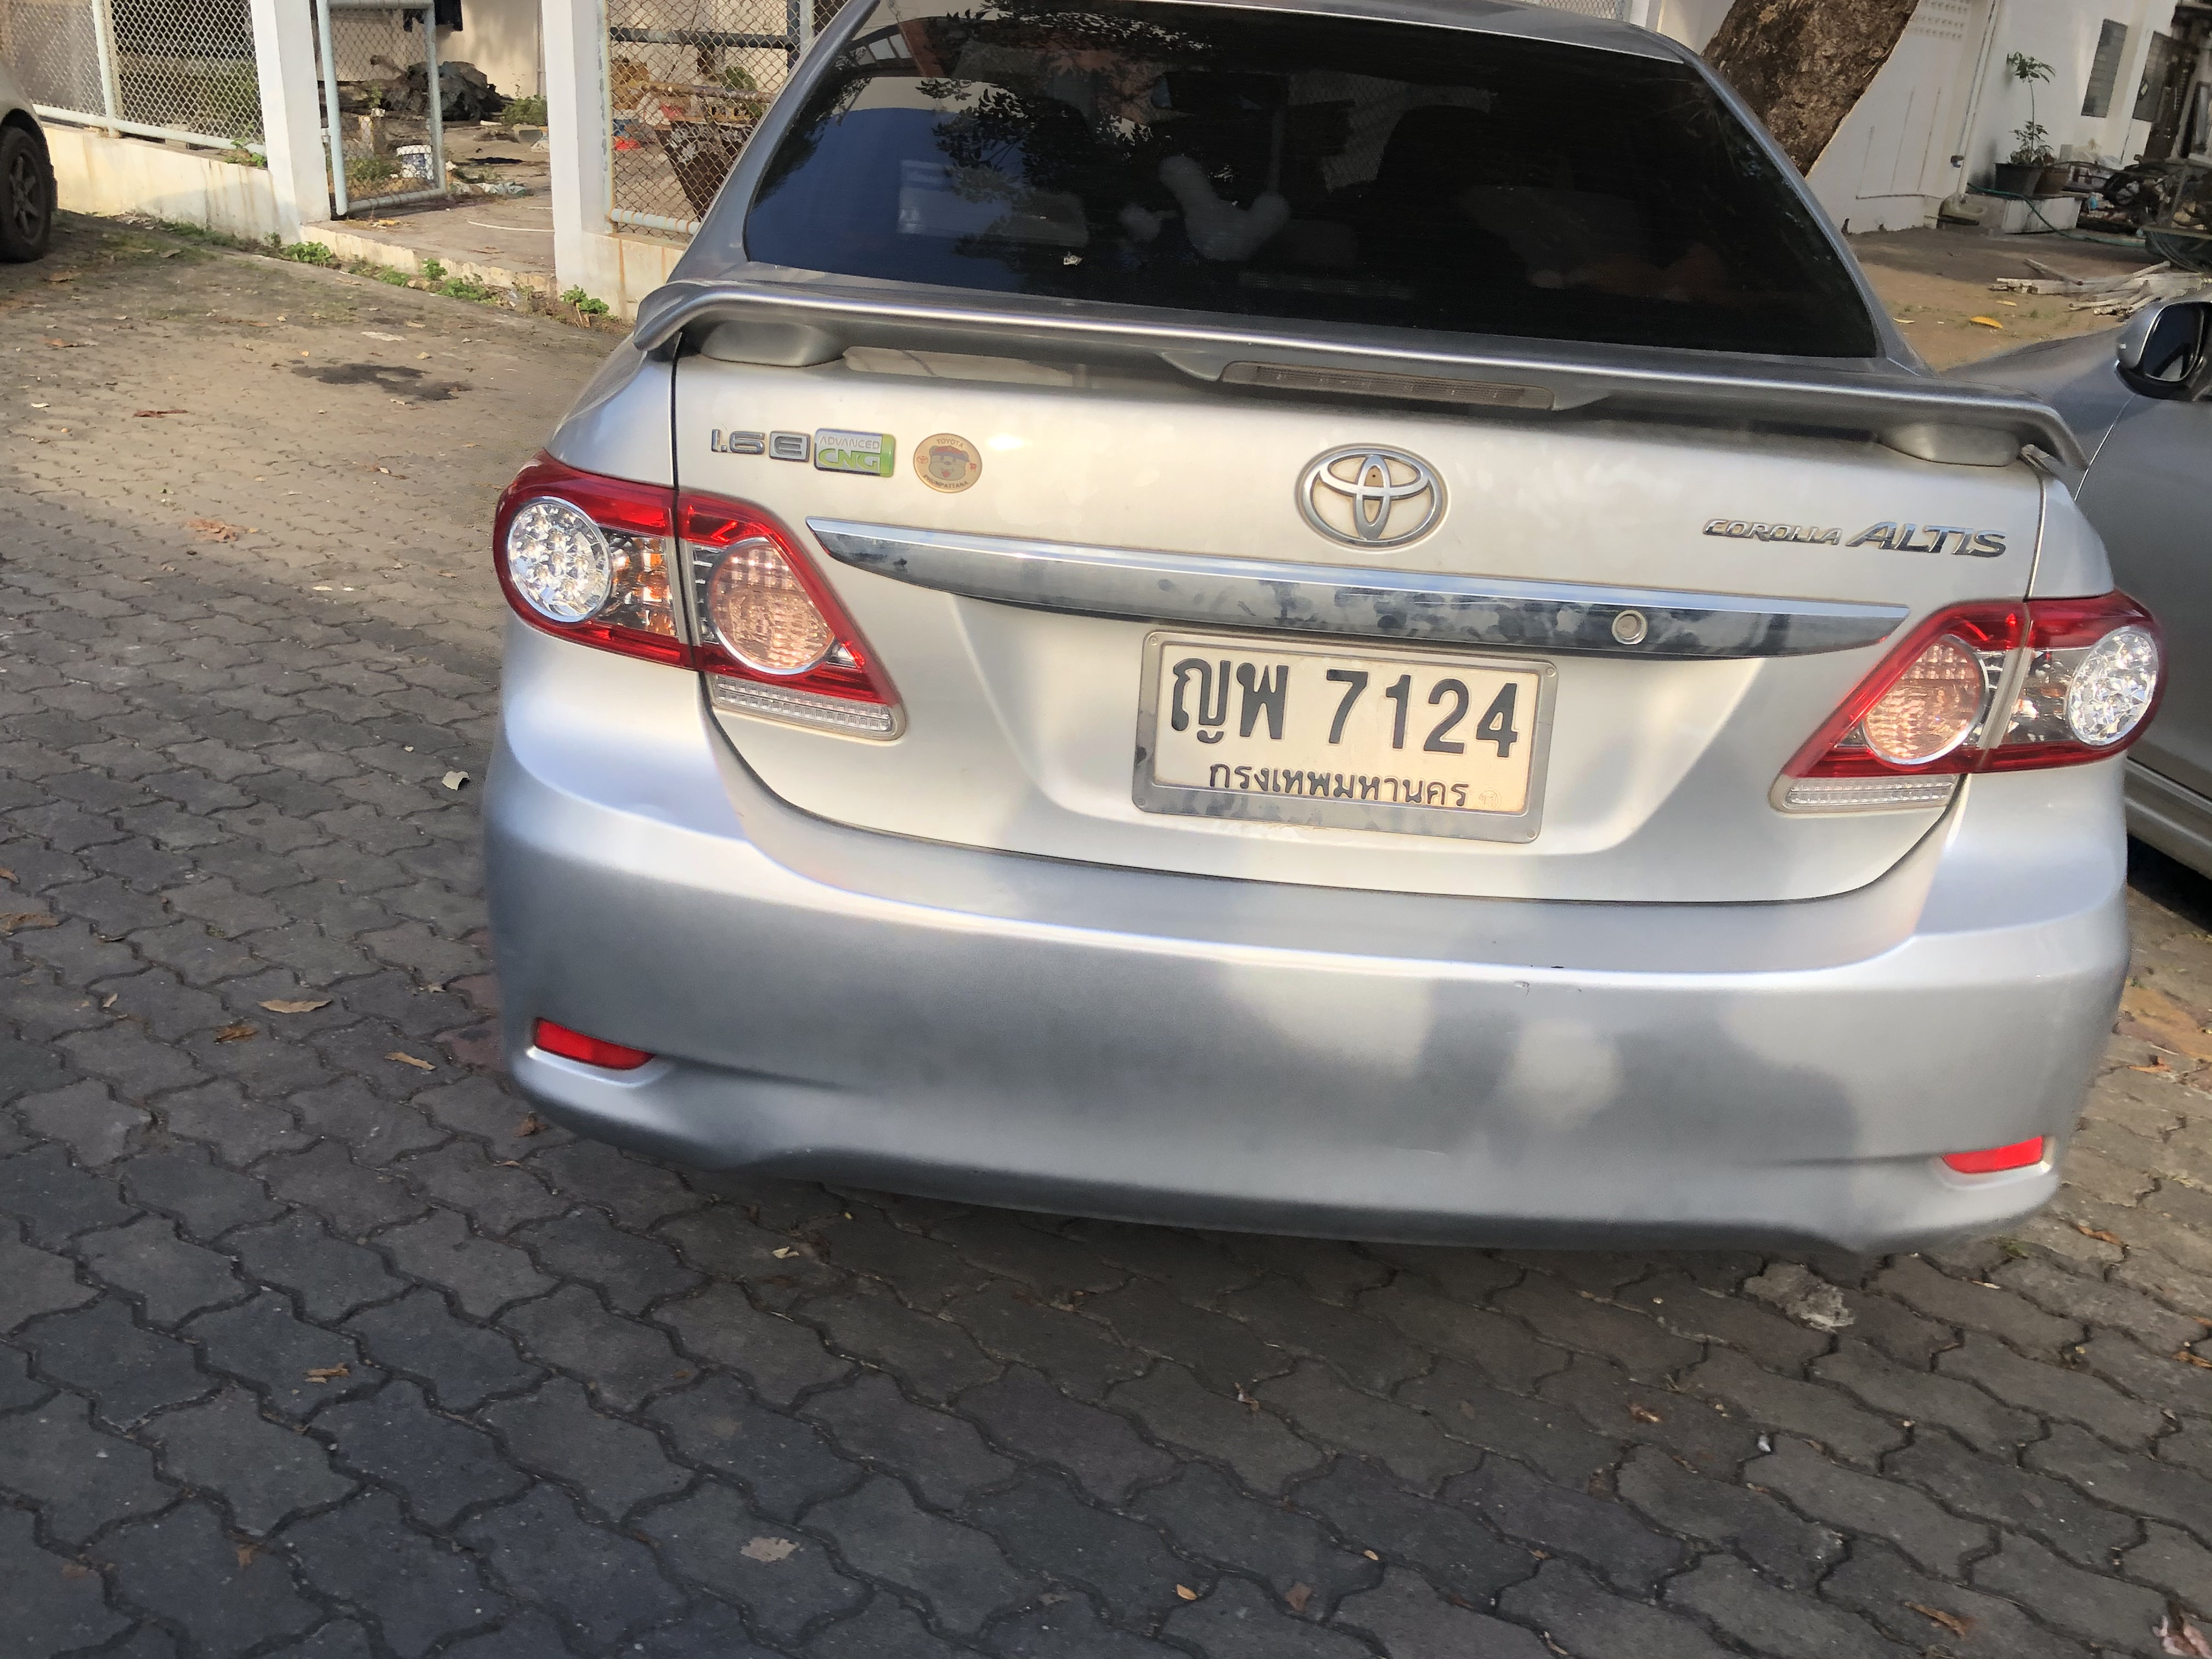in: (1160, 638, 1529, 819)
out: (1141, 620, 1550, 849)
